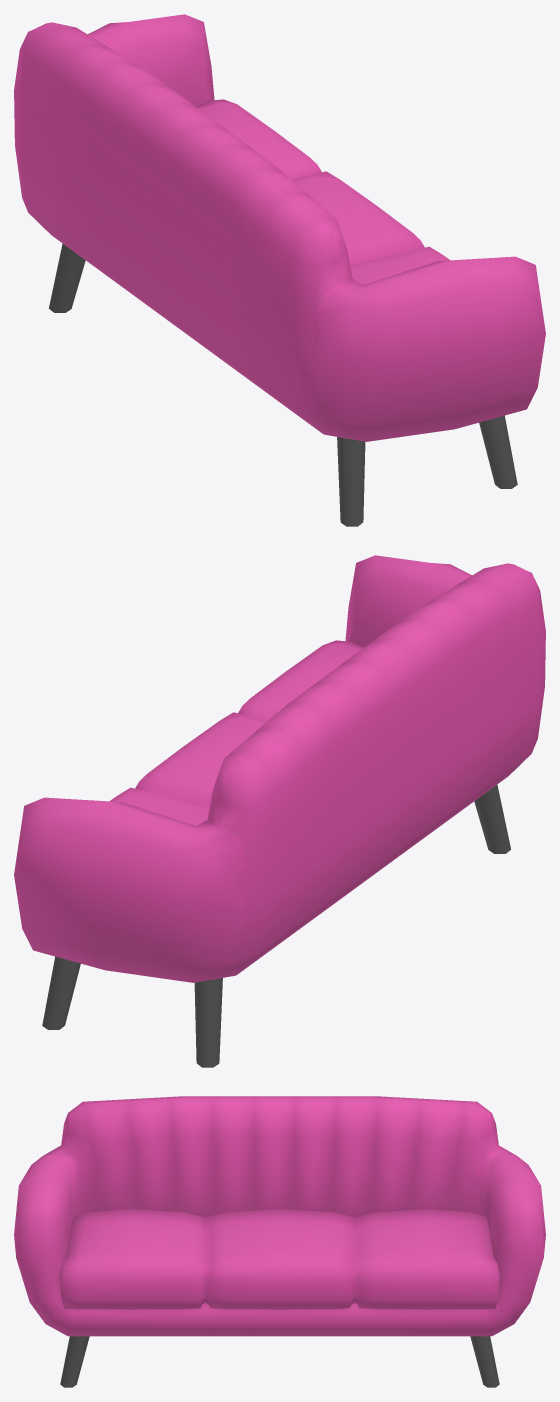
The model's file is sofapink.glb.
3 views of the same model, one above another, from view 1: azimuth 30°, elevation 25°; view 2: azimuth 150°, elevation 25°; view 3: azimuth 270°, elevation 25° (orthographic). The views are drawn at different scales.
Parts seen in each view (by area): view 1: Object_16.003; view 2: Object_16.003; view 3: Object_16.003.
Part boxes in pixels (x1=…): Object_16.003: x1=14, y1=14, x2=545, y2=526; Object_16.003: x1=14, y1=555, x2=545, y2=1067; Object_16.003: x1=14, y1=1096, x2=545, y2=1387.
Size of the model in its own units: 0.6581 by 0.8549 by 1.84.
1 material, 1 textured.
